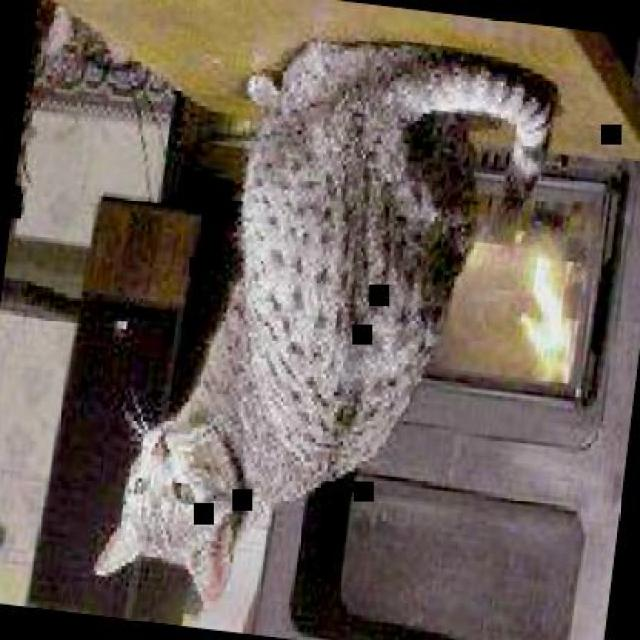cat: (91, 19, 560, 639)
